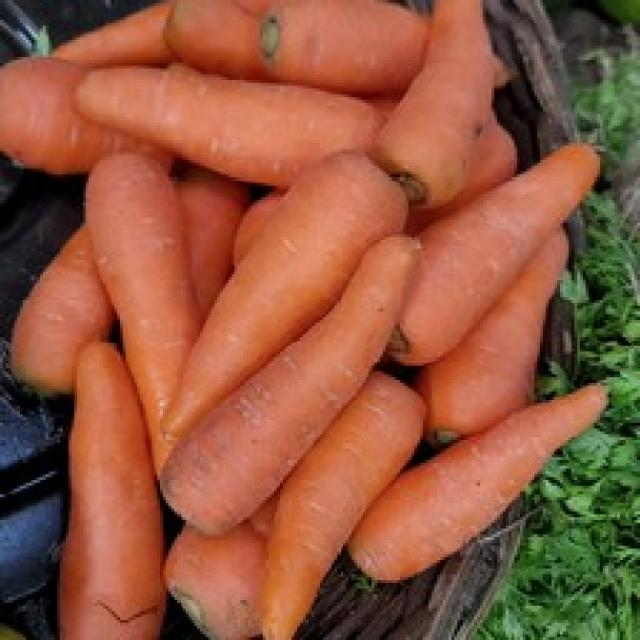Fresh_Carrot: (167, 242, 403, 530), (169, 154, 384, 419), (374, 384, 600, 575), (265, 379, 423, 640), (82, 155, 206, 476), (411, 139, 592, 340), (80, 67, 386, 172), (392, 0, 489, 194)
